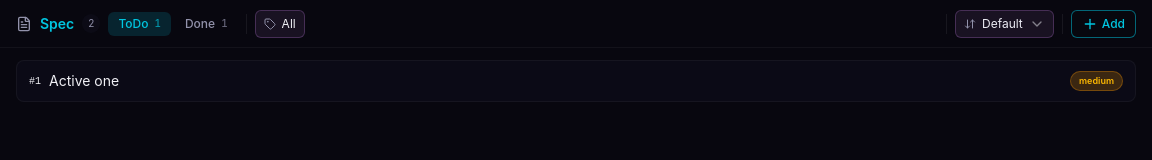
Scenario: SpecsBoard ToDo / Done tabs › clicking the Done tab shows the Done bucket and hides active specs
The image size is (1152, 160).
Step 1. Click the tab with test id "specs-tab-done" → (206, 24), box [175,12,238,36]
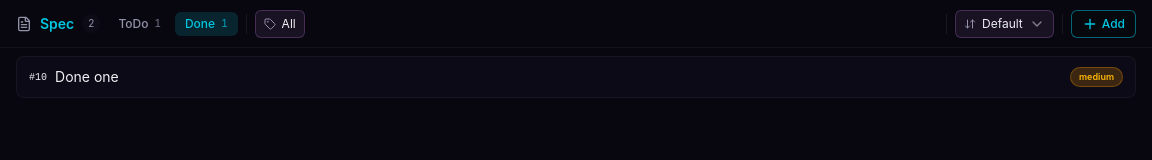
expect the button "Active one" is gone: met
expect the text "Done one" is shown: met, box [55,68,119,85]
expect the element with test id "specs-board-done-bucket" is shown: met, box [0,48,1151,110]
